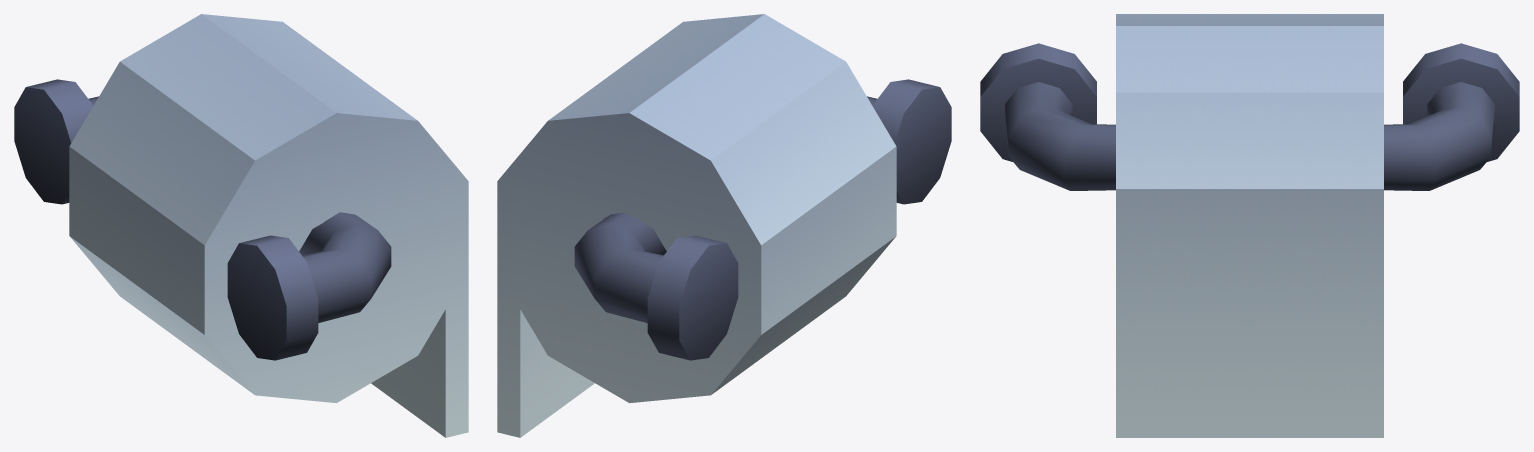
The model's file is ToiletPaper.fbx.
3 views of the same model, side by side, from view 1: azimuth 30°, elevation 25°; view 2: azimuth 150°, elevation 25°; view 3: azimuth 270°, elevation 25° (orthographic).
Visible parts, largest first — view 1: ToiletPaper; view 2: ToiletPaper; view 3: ToiletPaper.
Part boxes in pixels (x1,y1,x2,y2): ToiletPaper: [14, 14, 468, 437]; ToiletPaper: [497, 14, 951, 437]; ToiletPaper: [980, 14, 1519, 437].
Bounding box in the file's own units: 28.52 × 36.33 × 50.97.
